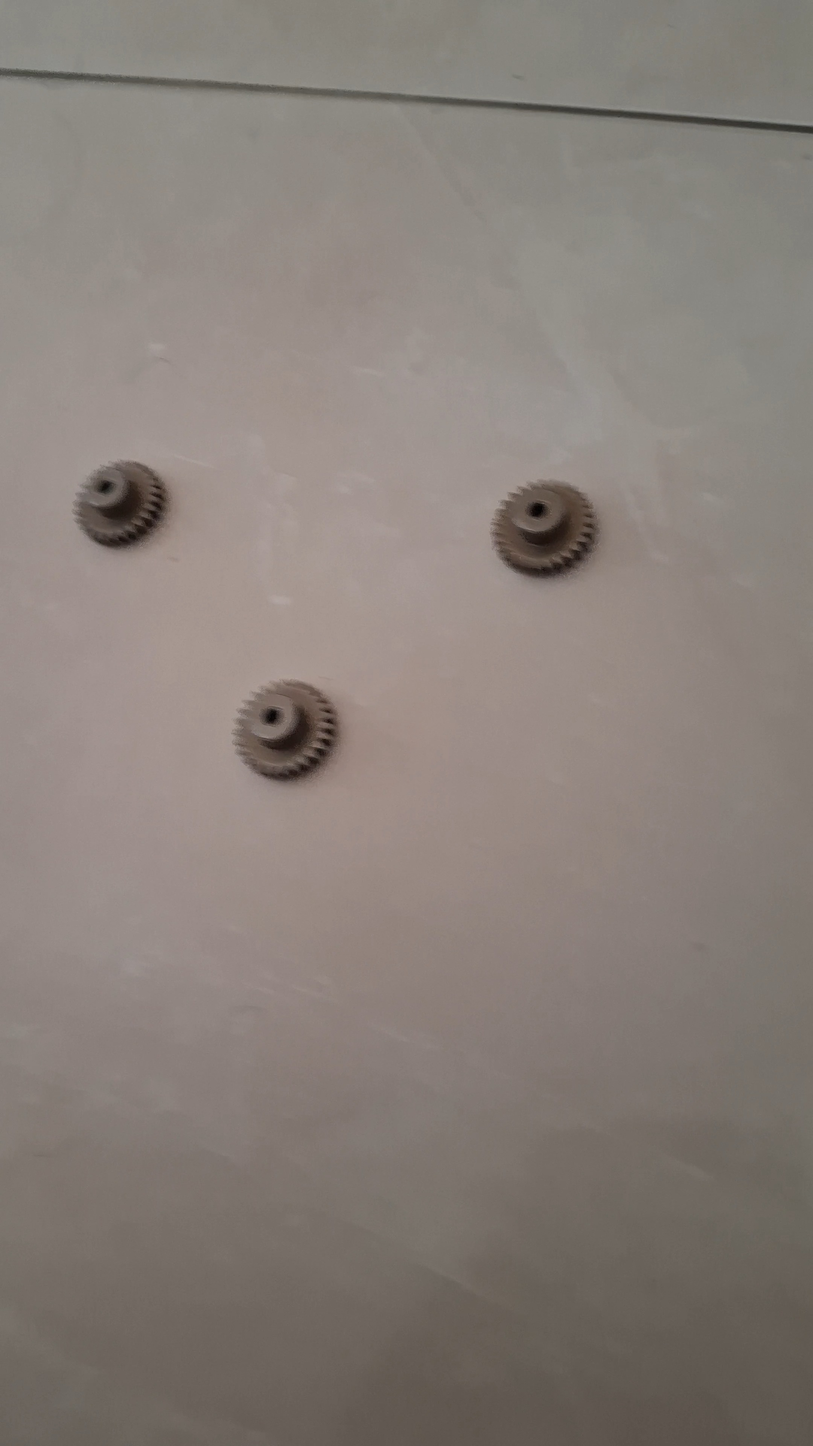spur gear: (234, 680, 337, 779), (492, 481, 597, 574), (75, 462, 166, 546)
